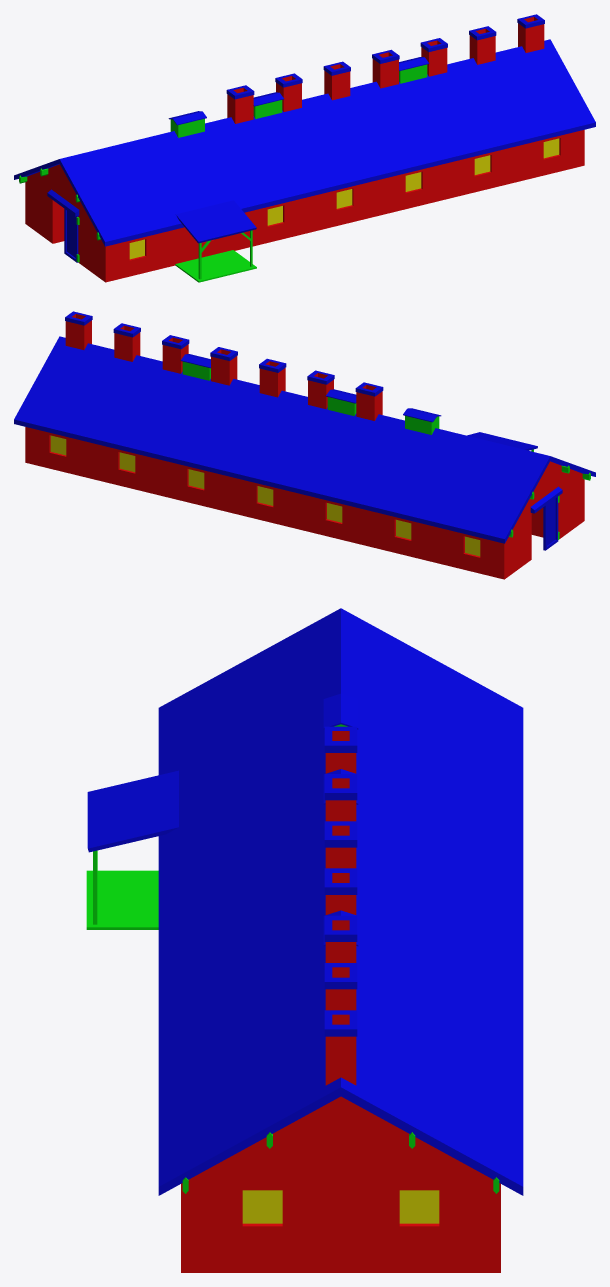
Rendered from Camp_Barrack_01.fbx.
3 renders of one model, top to bottom at view 1: azimuth 30°, elevation 25°; view 2: azimuth 150°, elevation 25°; view 3: azimuth 270°, elevation 25°, orthographic. The views are drawn at different scales.
Visible parts, largest first — view 1: mesh_barrack01, mesh_barrack01_door; view 2: mesh_barrack01, mesh_barrack01_door; view 3: mesh_barrack01.
Boxes of the visible parts, box(x1,y1,x2,y2) form: mesh_barrack01: box(14, 14, 595, 282); mesh_barrack01_door: box(64, 208, 79, 262); mesh_barrack01: box(14, 311, 595, 579); mesh_barrack01_door: box(543, 495, 559, 550); mesh_barrack01: box(86, 608, 523, 1272).
Bounding box in the file's own units: 1266 × 295 × 486.
